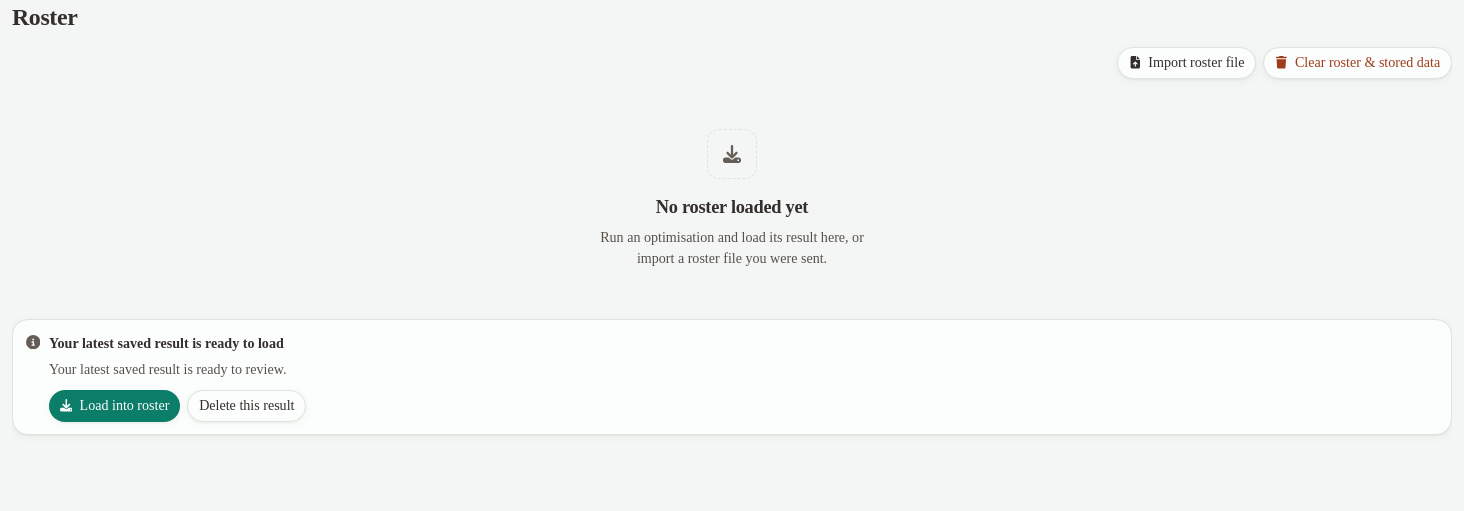
RosterSection — durable Load authority › a failed promotion keeps the empty state and says so
The width and height of the screenshot is (1464, 511).
Click the button with test id "roster-candidate-load": (115, 406) [49,390,180,422]
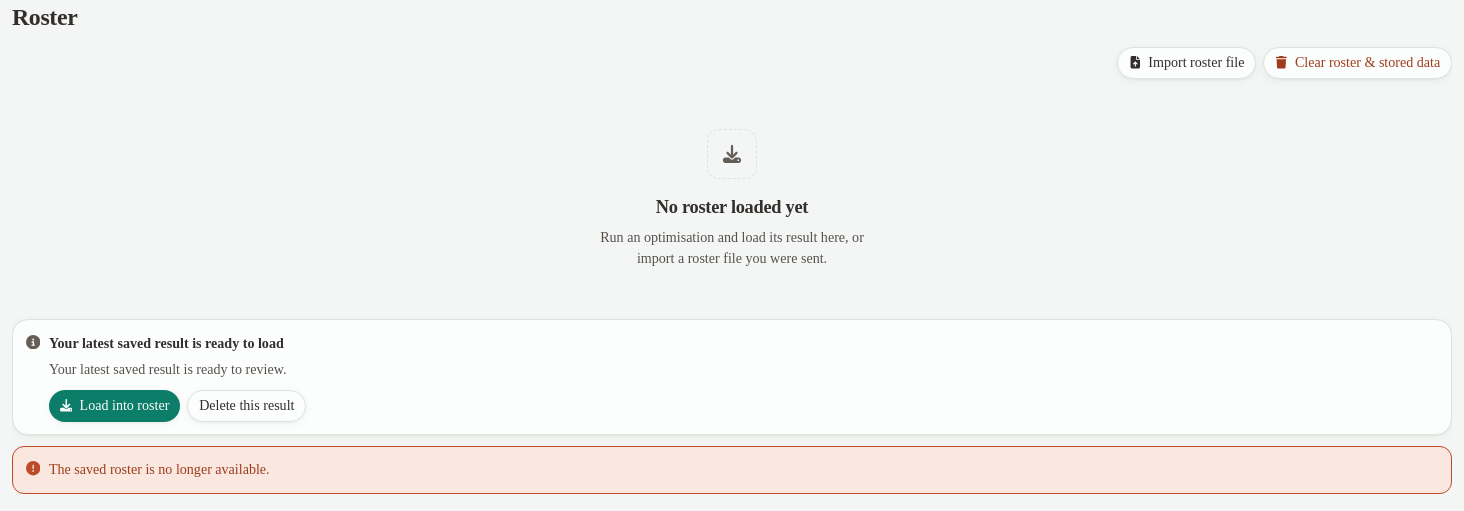
Result: the message "The saved roster is no longer available." is shown at [12,446,1452,494]
